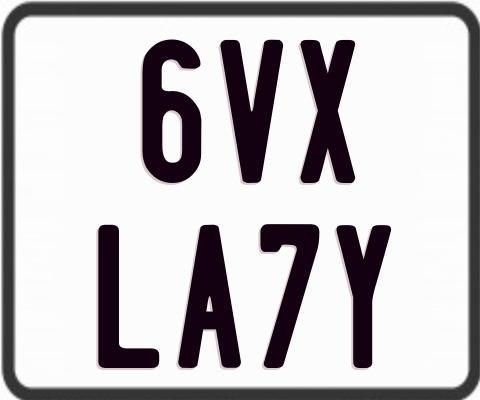6: (141, 39, 203, 185)
7: (260, 224, 325, 368)
A: (175, 222, 244, 371)
L: (95, 225, 158, 369)
V: (218, 37, 286, 183)
X: (297, 37, 357, 185)
Y: (335, 224, 390, 368)
